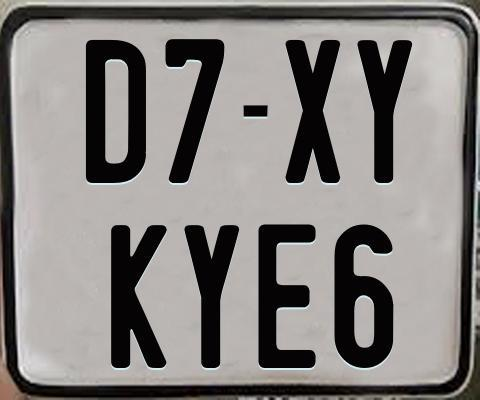6: (334, 224, 396, 372)
7: (163, 38, 225, 185)
D: (83, 40, 148, 186)
E: (256, 222, 317, 370)
K: (108, 222, 168, 369)
X: (285, 39, 343, 186)
Y: (183, 223, 244, 370), (357, 38, 414, 186)
